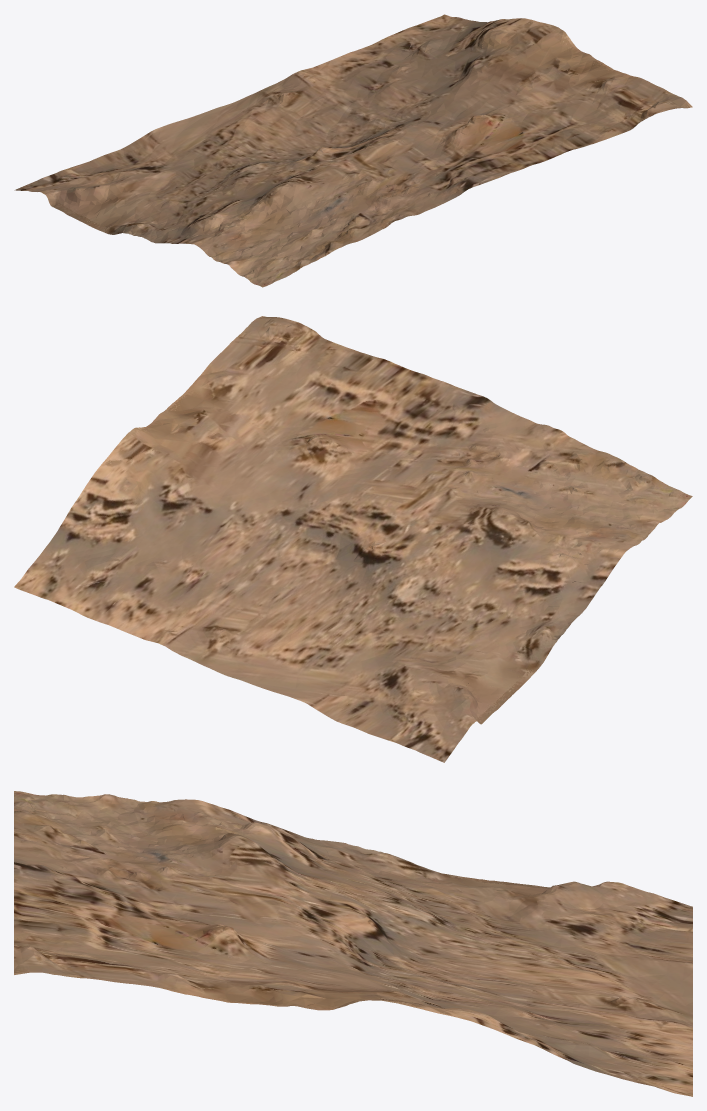
3 renders of one model, top to bottom at view 1: azimuth 30°, elevation 25°; view 2: azimuth 150°, elevation 25°; view 3: azimuth 270°, elevation 25°, orthographic. The views are drawn at different scales.
Bounding box in the file's own units: 2.09 × 0.7597 × 2.09.
2 materials, 2 textured.
